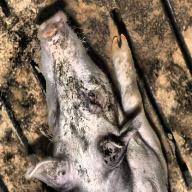boar: (24, 10, 169, 192)
